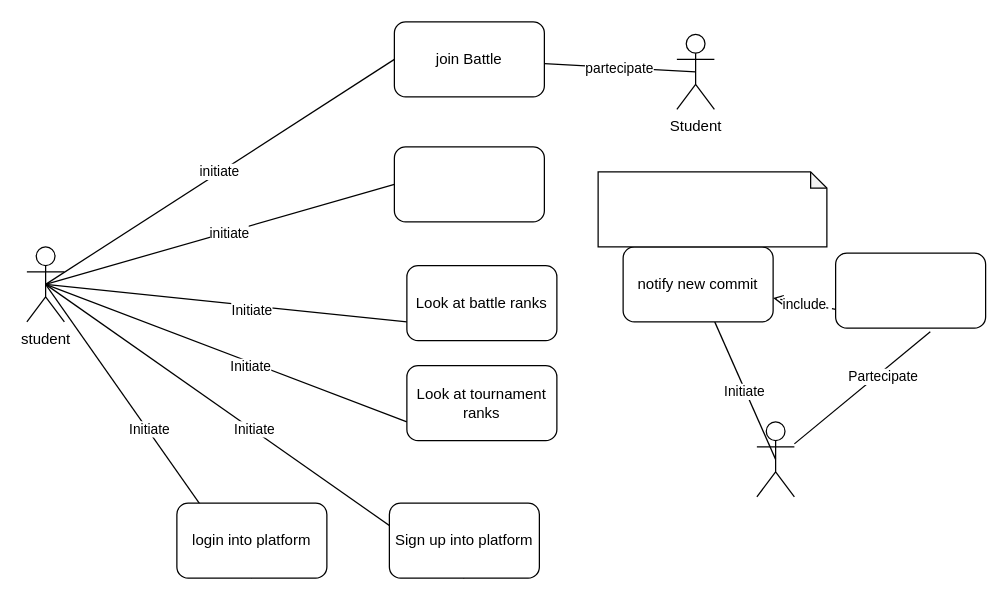
This 1008x601 diagram has some shape labels left out. Each missing label, with the centre of its shape:
after receiving a commit push from a student ( outside the system to be ): the point at 712,209
Github: the point at 775,459
Subscribe to Tournament: the point at 468,184
system pull Sources: the point at 910,290
